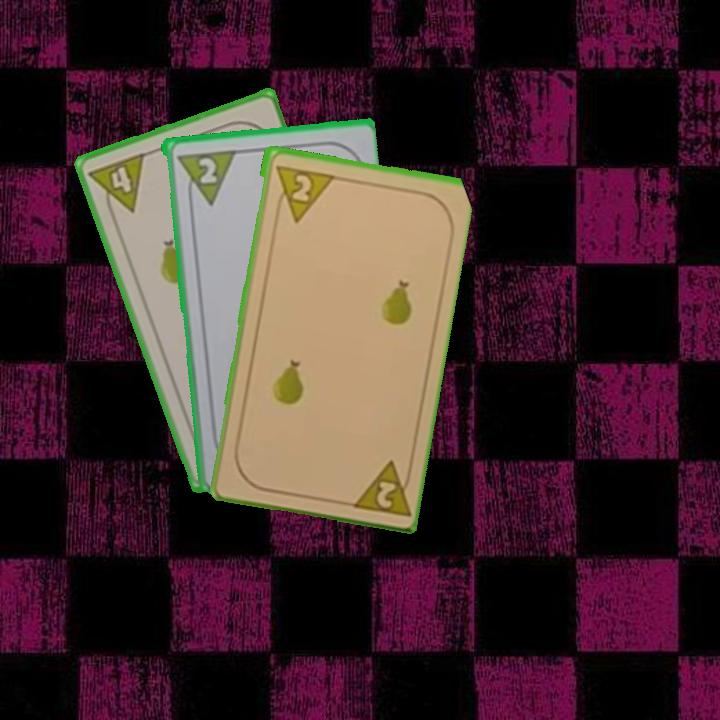2p: (345, 455, 415, 519), (271, 160, 334, 225), (193, 153, 219, 186)
4p: (85, 149, 148, 222)
